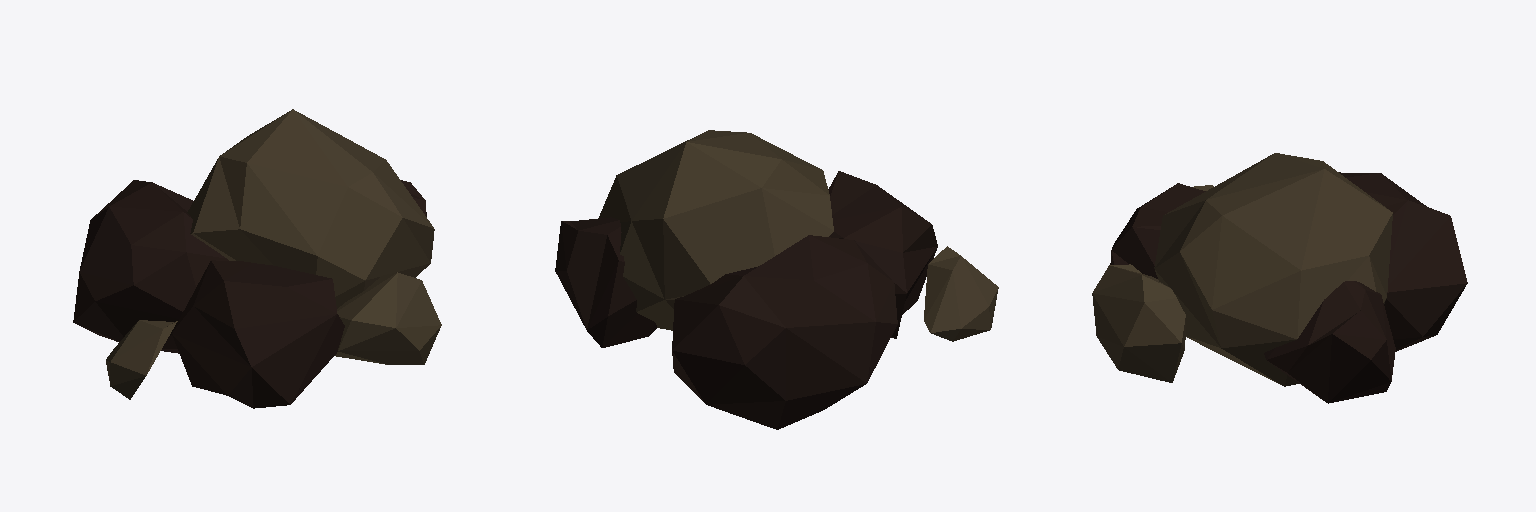
Rendered from rock_pile.obj.
3 views of the same model, side by side, from view 1: azimuth 30°, elevation 25°; view 2: azimuth 150°, elevation 25°; view 3: azimuth 270°, elevation 25° (orthographic).
Visible parts, largest first — view 1: rock_pile_Icosphere; view 2: rock_pile_Icosphere; view 3: rock_pile_Icosphere.
Boxes of the visible parts, <box> form: rock_pile_Icosphere: <box>73,109,441,408</box>; rock_pile_Icosphere: <box>555,130,998,429</box>; rock_pile_Icosphere: <box>1092,153,1467,403</box>.
Size of the model in its own units: 1.85 by 1.11 by 1.63.